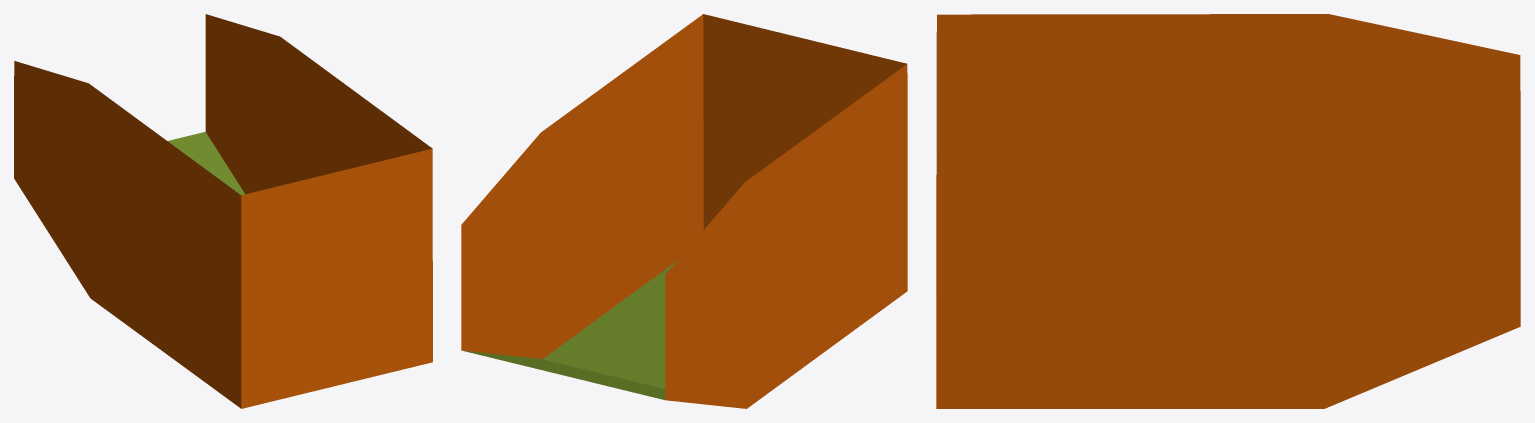
File: Garden.fbx
3 views of the same model, side by side, from view 1: azimuth 30°, elevation 25°; view 2: azimuth 150°, elevation 25°; view 3: azimuth 270°, elevation 25° (orthographic). The views are drawn at different scales.
Visible parts, largest first — view 1: Gardem.001; view 2: Gardem.001; view 3: Gardem.001.
Boxes of the visible parts, bbox=[...] form: Gardem.001: bbox=[14, 14, 432, 408]; Gardem.001: bbox=[461, 14, 907, 408]; Gardem.001: bbox=[936, 14, 1520, 408].
Bounding box in the file's own units: 827 × 883 × 1702.
